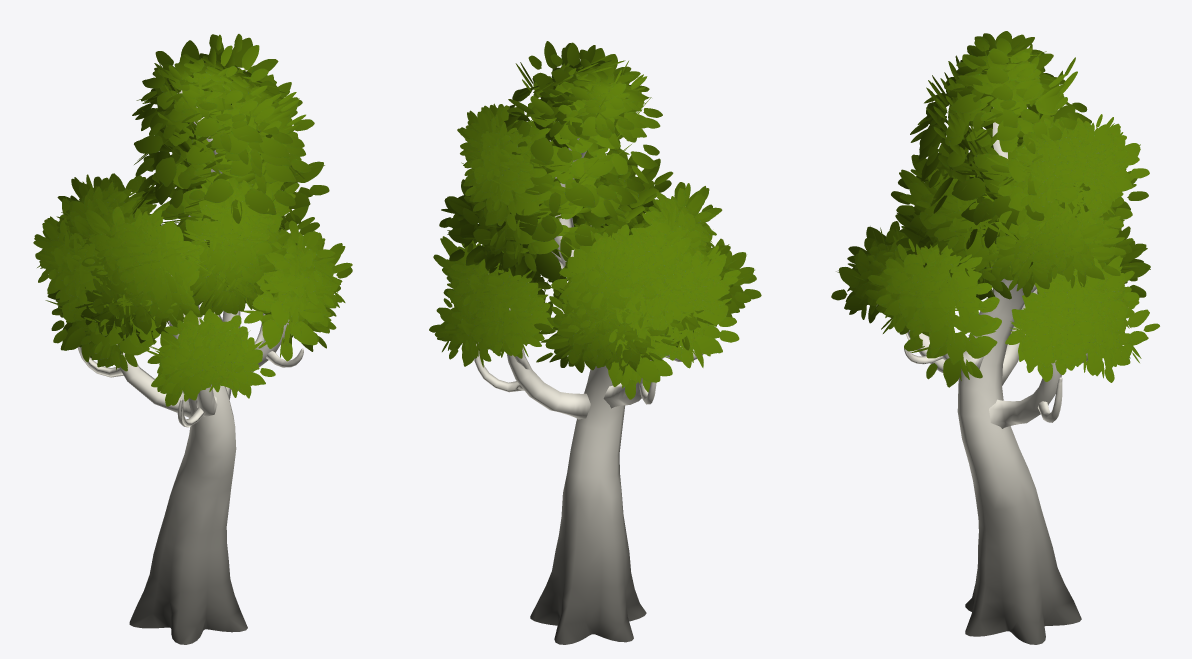
Rendered from tree-health-2-mature.glb.
The picture shows the model from 3 angles, left to right: view 1: azimuth 30°, elevation 25°; view 2: azimuth 150°, elevation 25°; view 3: azimuth 270°, elevation 25°; orthographic projection. The views are drawn at different scales.
Parts seen in each view (by area): view 1: CommonTree_2; view 2: CommonTree_2; view 3: CommonTree_2.
Boxes of the visible parts, x1,y1,x2,y2 form: CommonTree_2: (33,34,352,644); CommonTree_2: (429,41,761,644); CommonTree_2: (831,31,1159,644).
Bounding box in the file's own units: 3.33 × 5.7 × 3.19.
Materials: 2 (1 with a texture image).
